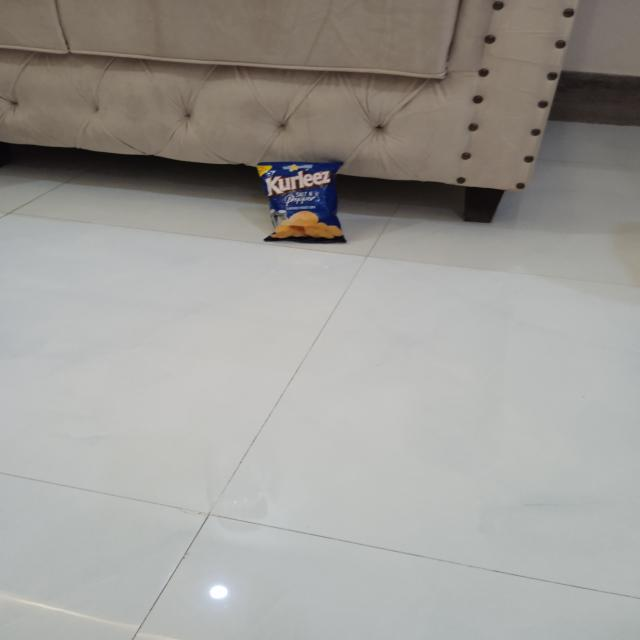Plastic: (253, 154, 354, 248)
